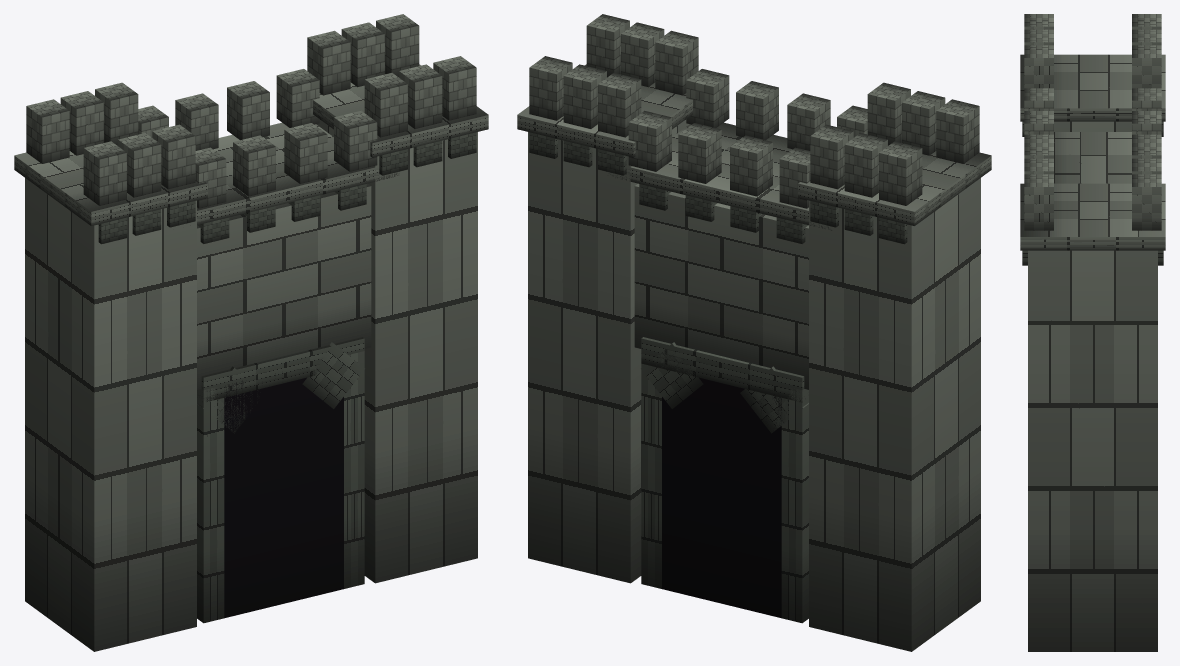
The model's file is portcullis.glb.
3 views of the same model, side by side, from view 1: azimuth 30°, elevation 25°; view 2: azimuth 150°, elevation 25°; view 3: azimuth 270°, elevation 25° (orthographic). The views are drawn at different scales.
Parts seen in each view (by area): view 1: portcullis; view 2: portcullis; view 3: portcullis.
Part boxes in pixels (x1,y1,x2,y2): portcullis: [14, 14, 488, 651]; portcullis: [517, 14, 991, 651]; portcullis: [1020, 14, 1165, 651].
Size of the model in its own units: 2.32 by 2.75 by 0.78.
Materials: 1 (1 with a texture image).
